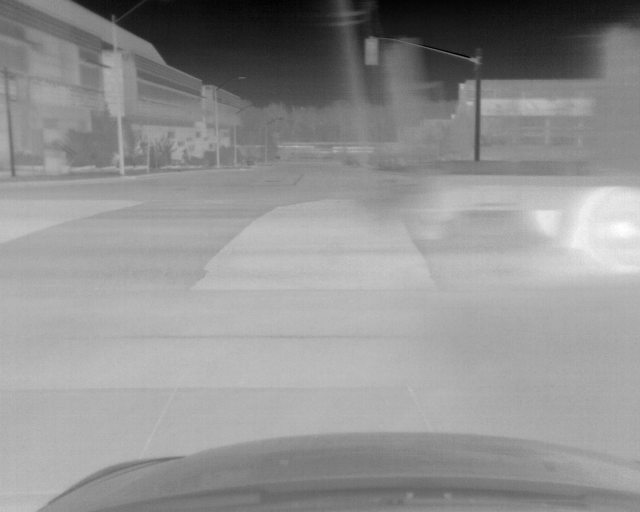car: (412, 157, 640, 273)
